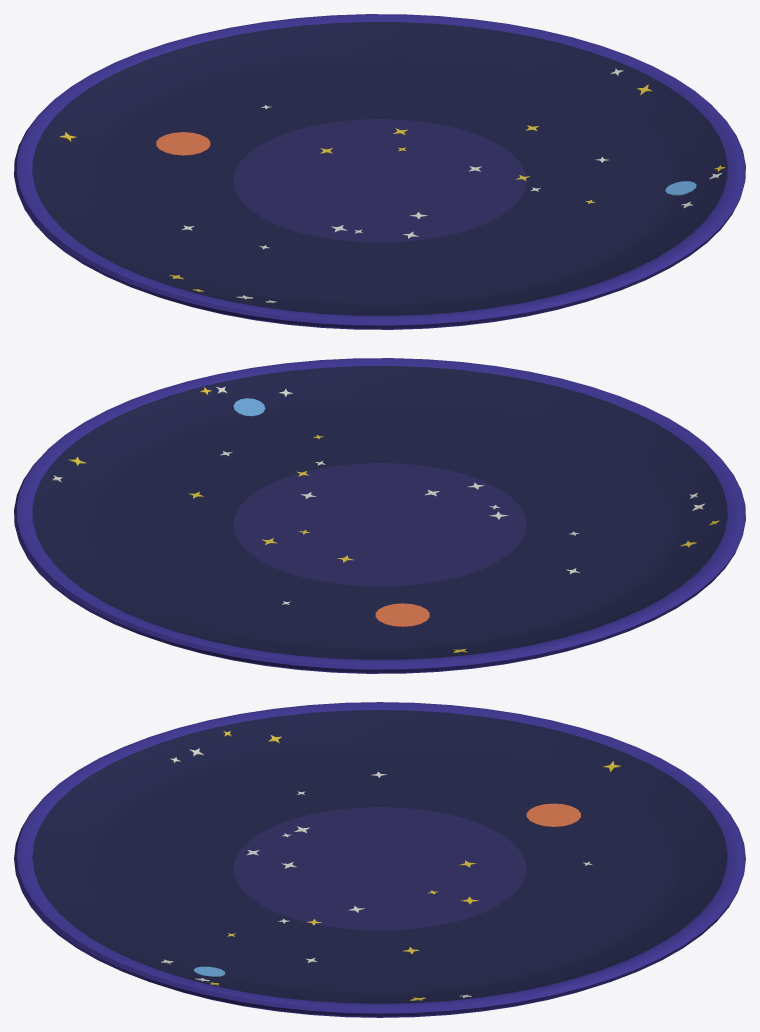
Rendered from plate_space.glb.
3 renders of one model, top to bottom at view 1: azimuth 30°, elevation 25°; view 2: azimuth 150°, elevation 25°; view 3: azimuth 270°, elevation 25°, orthographic.
Parts seen in each view (by area): view 1: body; view 2: body; view 3: body.
Boxes of the visible parts, <box> form: body: <box>14,14,745,329</box>; body: <box>14,358,745,673</box>; body: <box>14,702,745,1017</box>.
Size of the model in its own units: 1.6 by 0.0939 by 1.6.
